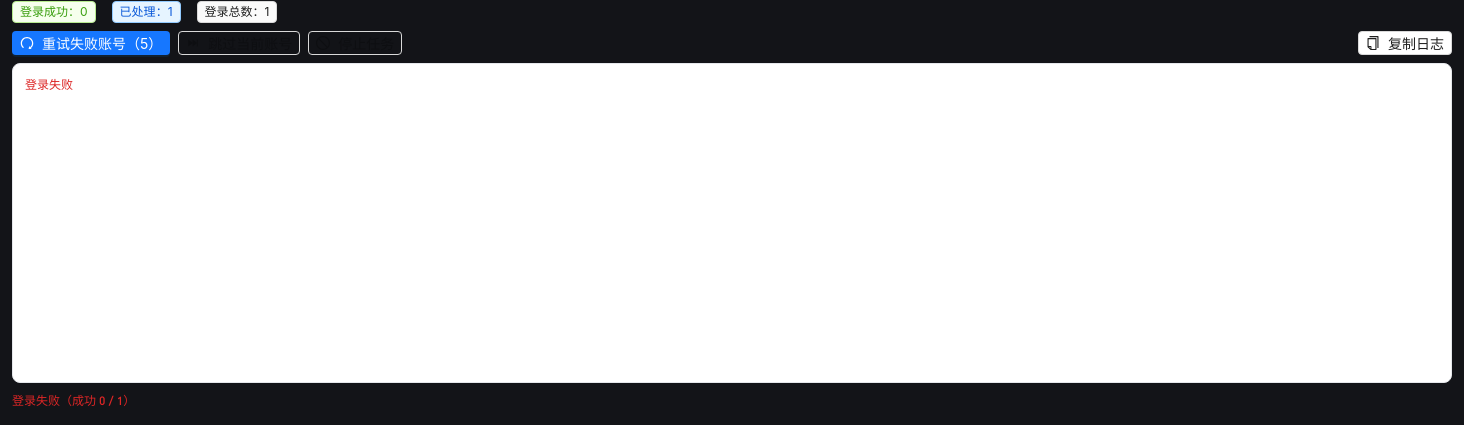
Test: TaskLogPanel terminal feedback › retries persisted failed login bindings and follows the new task
Click the button "重试失败账号（5）". click: (91, 43)
box: [12,31,170,55]
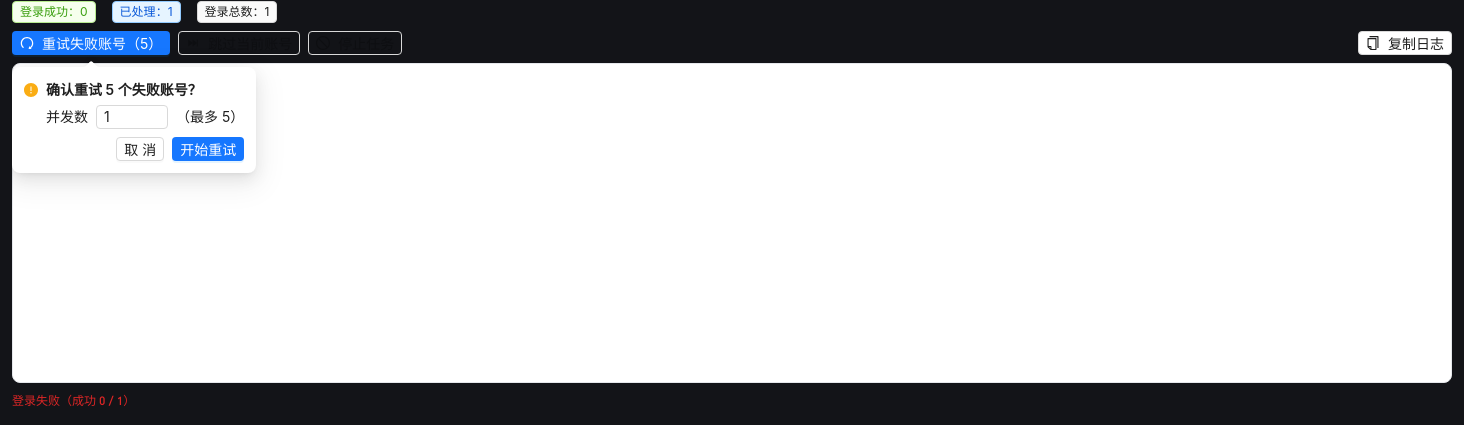
Replace the text in the number field named "失败账号重试并发数" with "4". click: (132, 117)
box: [97,106,167,128]
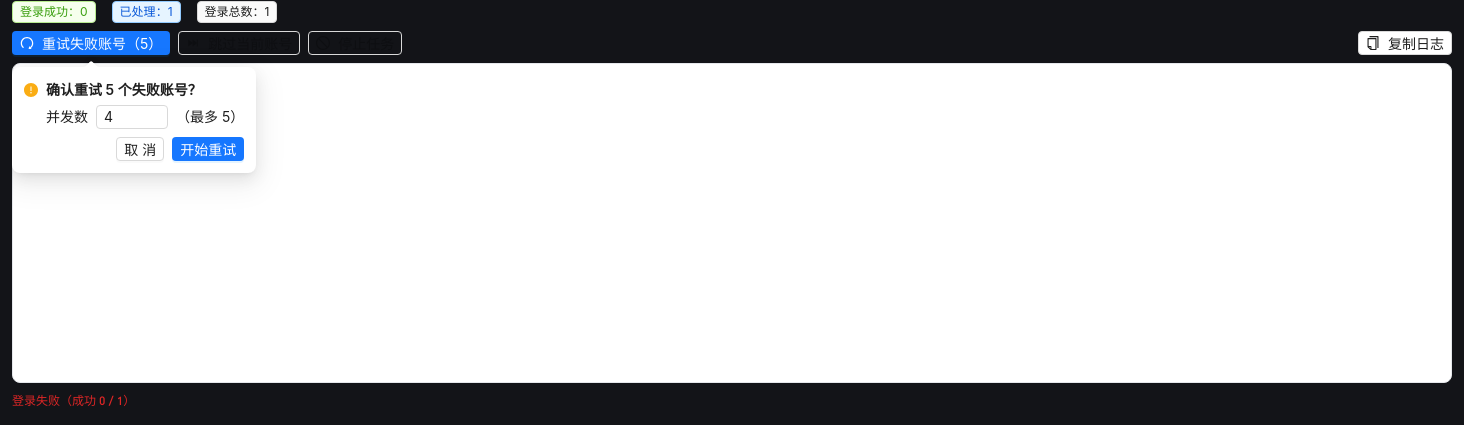
Click the button "开始重试". click: (208, 149)
box: [172,137,244,161]
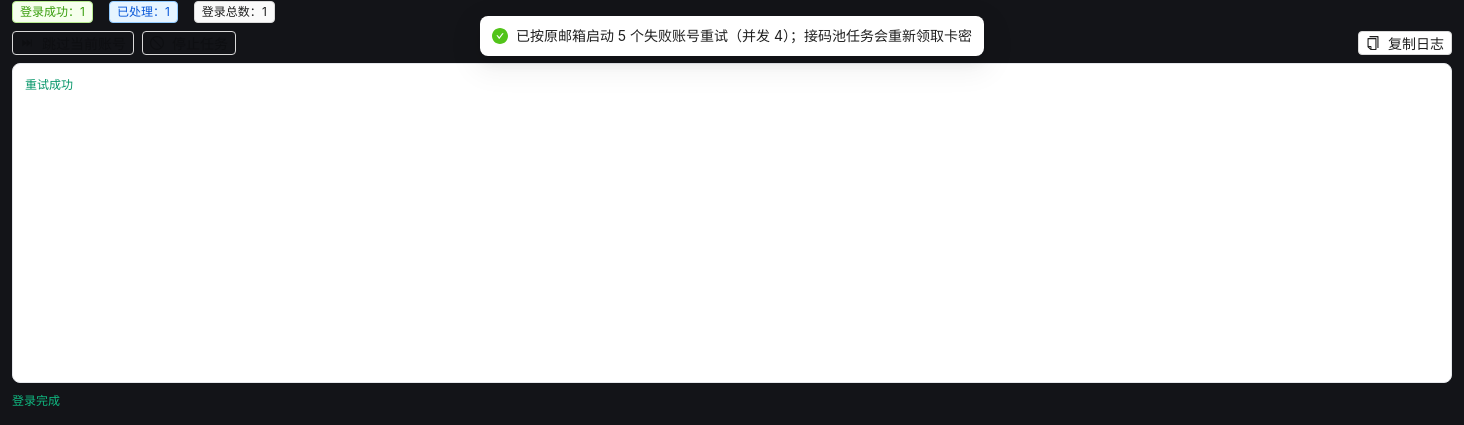
Expected: the text "重试成功" is shown, [25,78,73,92]
Expected: the text "登录完成" is shown, [12,394,60,408]
